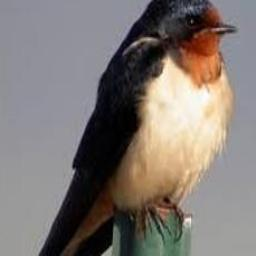Swallow: (10, 0, 238, 256)
